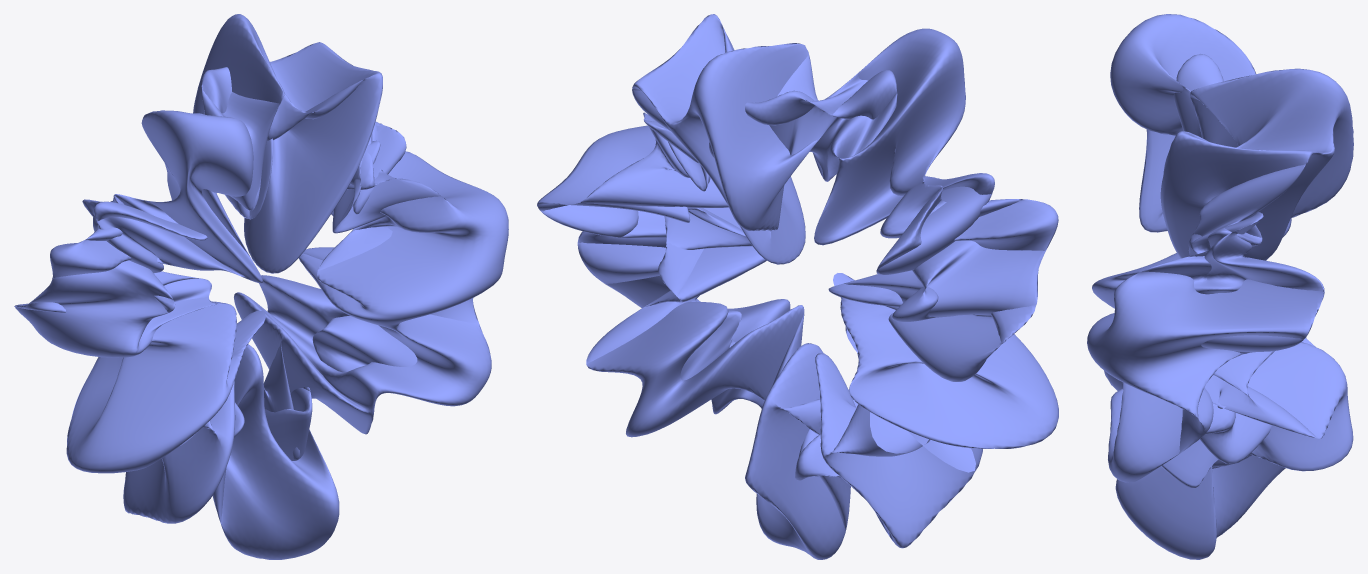
File: form_9.glb
The picture shows the model from 3 angles, left to right: view 1: azimuth 30°, elevation 25°; view 2: azimuth 150°, elevation 25°; view 3: azimuth 270°, elevation 25°; orthographic projection. The views are drawn at different scales.
Visible parts, largest first — view 1: Cube; view 2: Cube; view 3: Cube.
Part boxes in pixels (x1,y1,x2,y2): Cube: [14, 14, 508, 559]; Cube: [537, 14, 1058, 559]; Cube: [1087, 14, 1353, 559].
Size of the model in its own units: 19.38 by 20.64 by 10.17.
